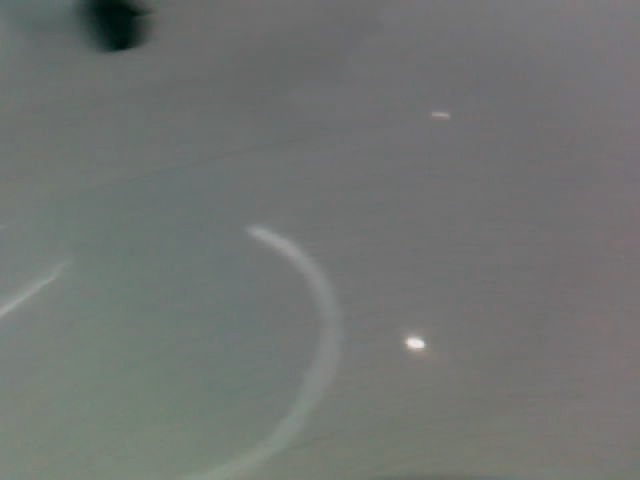拖鞋: (209, 63, 341, 204)
